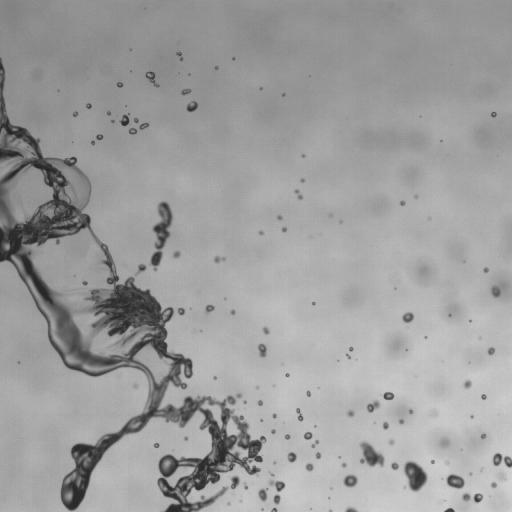droplet: (403, 461, 427, 492), (359, 441, 384, 467), (268, 480, 285, 504), (446, 474, 464, 489), (492, 453, 511, 467), (343, 474, 357, 487), (366, 400, 380, 412), (402, 312, 413, 323), (258, 488, 267, 501), (258, 343, 266, 357), (186, 101, 197, 111), (120, 114, 129, 126), (136, 264, 146, 274), (491, 286, 500, 297), (382, 392, 394, 400), (287, 452, 296, 462), (205, 304, 214, 313), (496, 472, 506, 480), (214, 256, 225, 263), (463, 380, 471, 388), (305, 463, 313, 471), (390, 462, 398, 470), (487, 347, 494, 355), (304, 432, 312, 439), (139, 123, 148, 129), (173, 251, 180, 258), (178, 308, 185, 315), (262, 327, 269, 334), (347, 410, 354, 417), (431, 409, 437, 417), (181, 89, 190, 94), (129, 128, 136, 134), (382, 422, 388, 429), (96, 134, 102, 140), (315, 452, 321, 458), (177, 52, 182, 59), (388, 439, 394, 444), (490, 482, 496, 487), (117, 82, 122, 87), (86, 103, 91, 108), (491, 112, 496, 117), (277, 215, 282, 220), (483, 267, 488, 272), (481, 394, 486, 399), (257, 400, 262, 405), (399, 419, 404, 424), (481, 433, 486, 438), (285, 434, 290, 439), (444, 439, 448, 445), (400, 201, 405, 205), (282, 227, 286, 232), (230, 310, 235, 314), (306, 391, 310, 396), (272, 413, 276, 418), (154, 443, 159, 447), (341, 463, 346, 467), (271, 508, 277, 511), (73, 112, 77, 116), (134, 118, 138, 122), (300, 178, 304, 182), (259, 230, 263, 234), (83, 281, 87, 285), (349, 347, 353, 351), (346, 354, 350, 358), (133, 384, 137, 388), (409, 409, 413, 413), (271, 429, 275, 433), (184, 436, 188, 440), (286, 373, 289, 377), (244, 484, 247, 488), (91, 141, 94, 144), (431, 460, 434, 463), (270, 473, 273, 476), (328, 509, 332, 511), (215, 66, 217, 69), (107, 112, 110, 114), (302, 154, 304, 157), (415, 195, 417, 198), (214, 376, 216, 379), (470, 415, 473, 417), (446, 461, 448, 464), (244, 401, 246, 403)
ligament: (0, 58, 266, 511), (150, 201, 172, 271), (462, 493, 483, 503), (146, 71, 158, 87), (294, 189, 302, 199), (296, 409, 303, 420), (344, 506, 357, 511), (312, 440, 318, 447), (444, 507, 454, 511)
